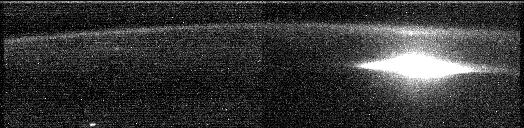negative: (396, 28, 445, 43)
